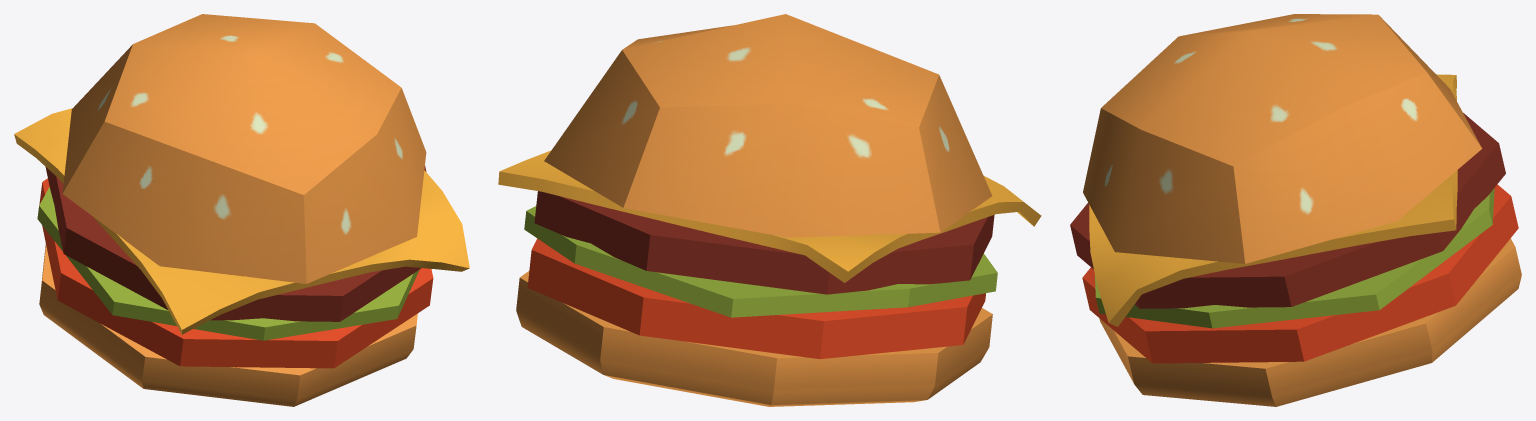
File: hat_burger.fbx
3 views of the same model, side by side, from view 1: azimuth 30°, elevation 25°; view 2: azimuth 150°, elevation 25°; view 3: azimuth 270°, elevation 25° (orthographic). The views are drawn at different scales.
Visible parts, largest first — view 1: BunTop_OBJ, Cheese_OBJ, BunBottom_OBJ, Tomato_OBJ, Patty_OBJ, Lettuce_OBJ; view 2: BunTop_OBJ, BunBottom_OBJ, Tomato_OBJ, Patty_OBJ, Lettuce_OBJ, Cheese_OBJ; view 3: BunTop_OBJ, BunBottom_OBJ, Tomato_OBJ, Patty_OBJ, Cheese_OBJ, Lettuce_OBJ.
Part boxes in pixels (x1=…): BunTop_OBJ: x1=62, y1=14, x2=426, y2=283; Cheese_OBJ: x1=14, y1=108, x2=469, y2=334; BunBottom_OBJ: x1=39, y1=243, x2=417, y2=406; Tomato_OBJ: x1=39, y1=178, x2=433, y2=368; Patty_OBJ: x1=45, y1=166, x2=426, y2=321; Lettuce_OBJ: x1=37, y1=187, x2=419, y2=340; BunTop_OBJ: x1=544, y1=14, x2=992, y2=237; BunBottom_OBJ: x1=516, y1=271, x2=992, y2=406; Tomato_OBJ: x1=527, y1=238, x2=985, y2=359; Patty_OBJ: x1=534, y1=191, x2=994, y2=294; Lettuce_OBJ: x1=524, y1=206, x2=997, y2=317; Cheese_OBJ: x1=498, y1=150, x2=1041, y2=282; BunTop_OBJ: x1=1083, y1=14, x2=1482, y2=263; BunBottom_OBJ: x1=1099, y1=238, x2=1521, y2=406; Tomato_OBJ: x1=1082, y1=184, x2=1518, y2=363; Patty_OBJ: x1=1070, y1=113, x2=1505, y2=308; Cheese_OBJ: x1=1089, y1=74, x2=1457, y2=326; Lettuce_OBJ: x1=1095, y1=188, x2=1494, y2=328.
Size of the model in its own units: 1.86 by 1.5 by 1.91.
